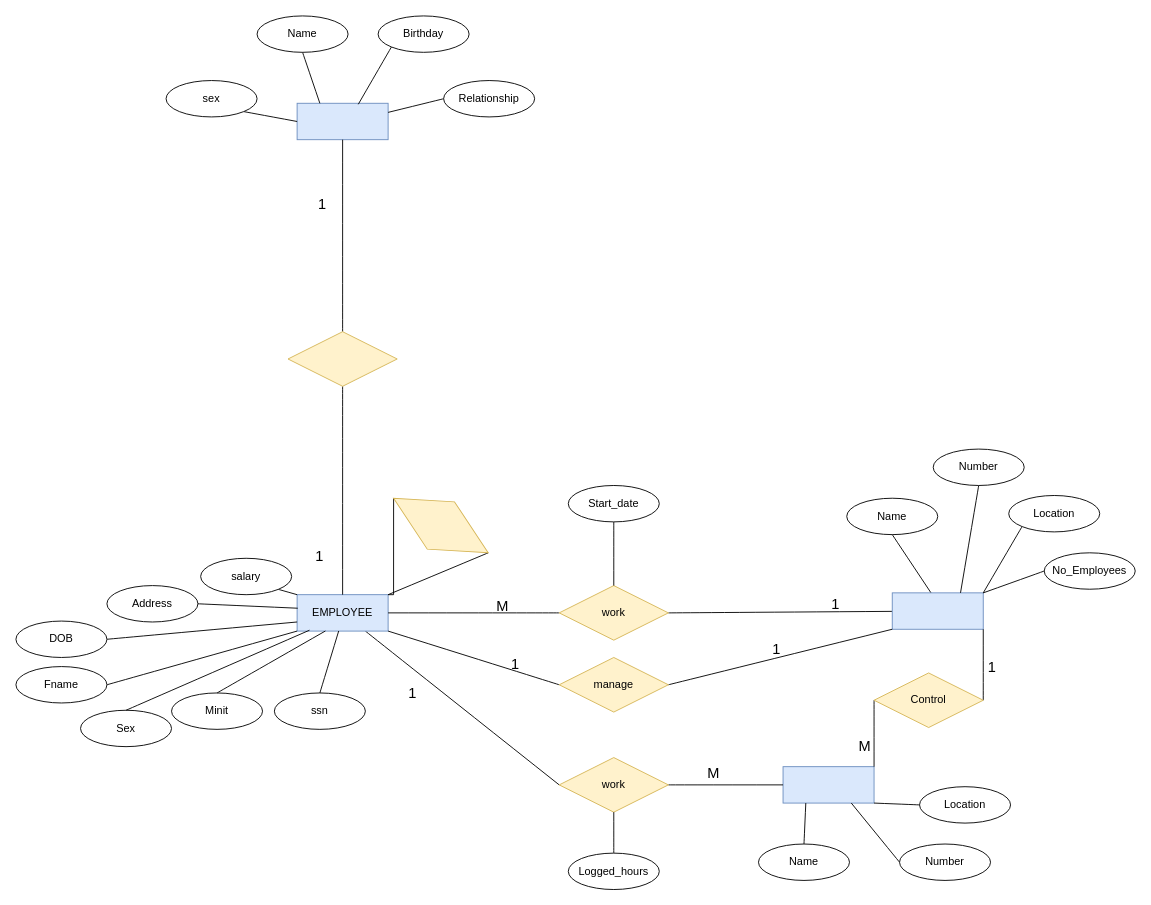
Some shapes in this 1151 by 905 pixel diagram are drawn without their labels. Each missing label, with the box of its shape:
DEPARTMENT: (891, 592, 983, 629)
DEPENDENT: (296, 102, 388, 140)
have: (287, 331, 397, 386)
PROJECT: (782, 766, 874, 803)
supervise: (379, 473, 502, 577)
